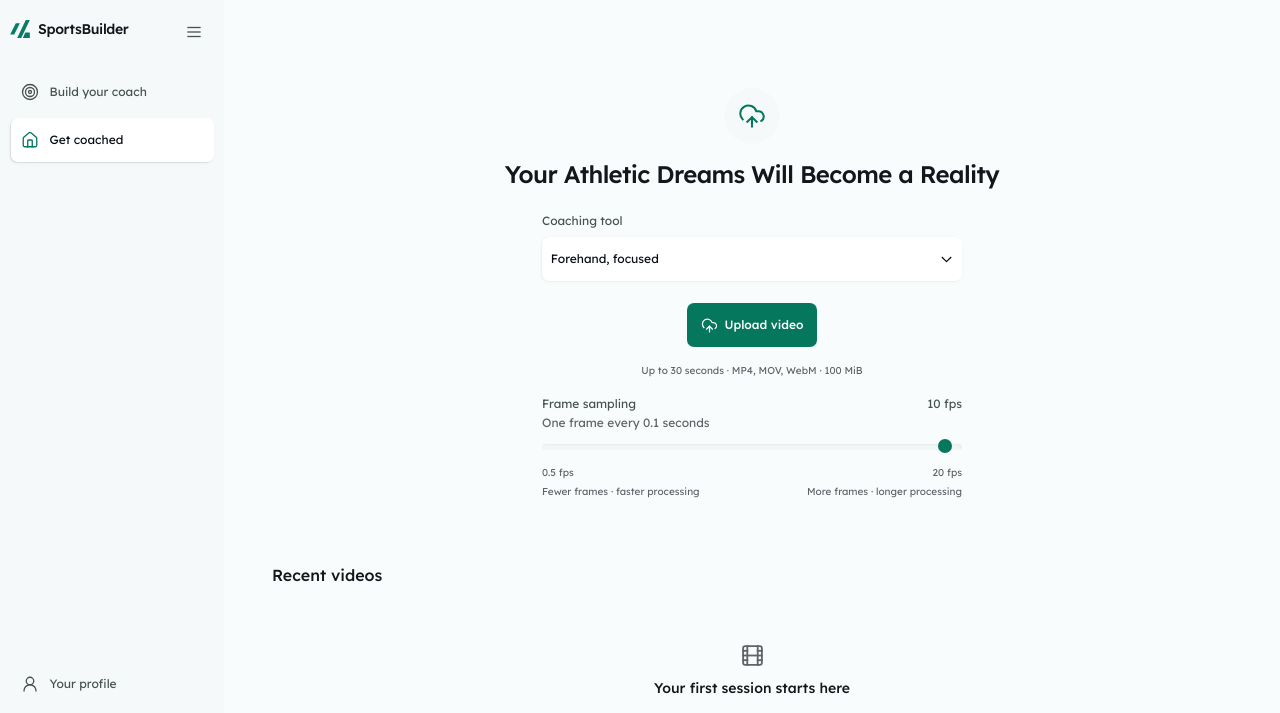
it: removes a selected coach from options and falls back to another visible coach
Click the dropdown named "Coaching tool for upload": click(605, 258) [542, 237, 962, 281]
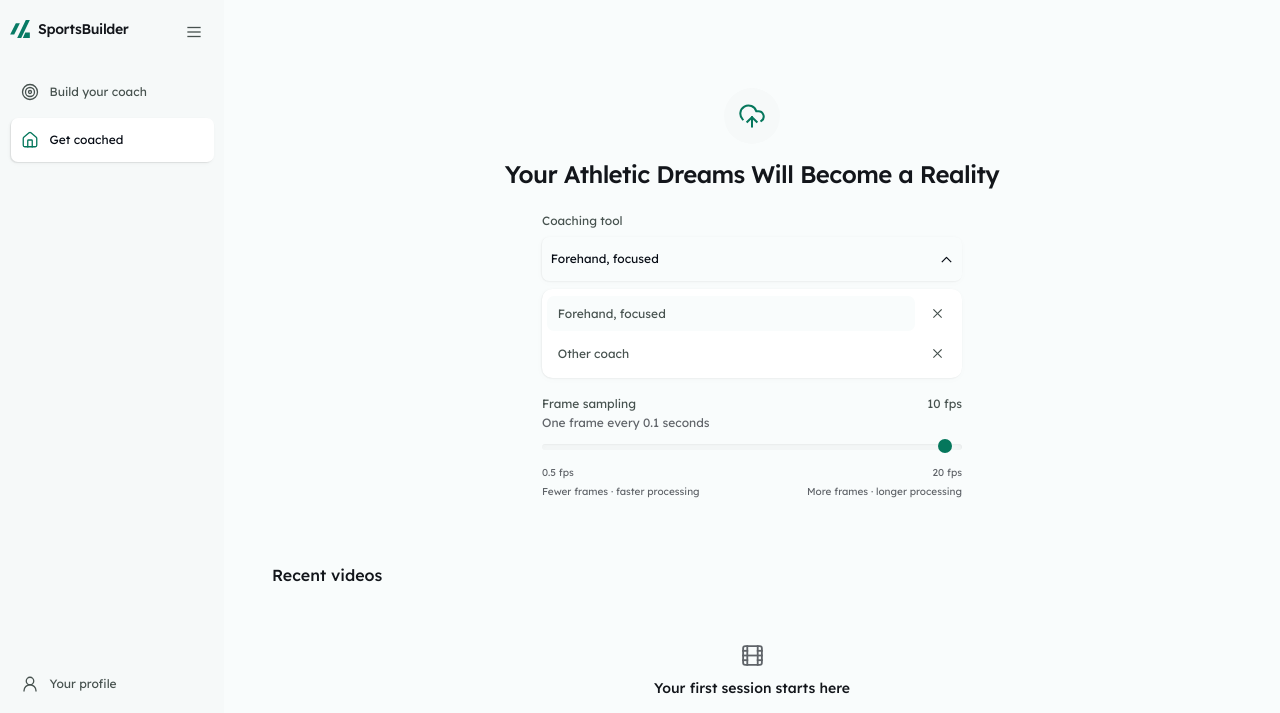
Click the button named "Remove Forehand, focused": click(938, 314) [918, 294, 957, 333]
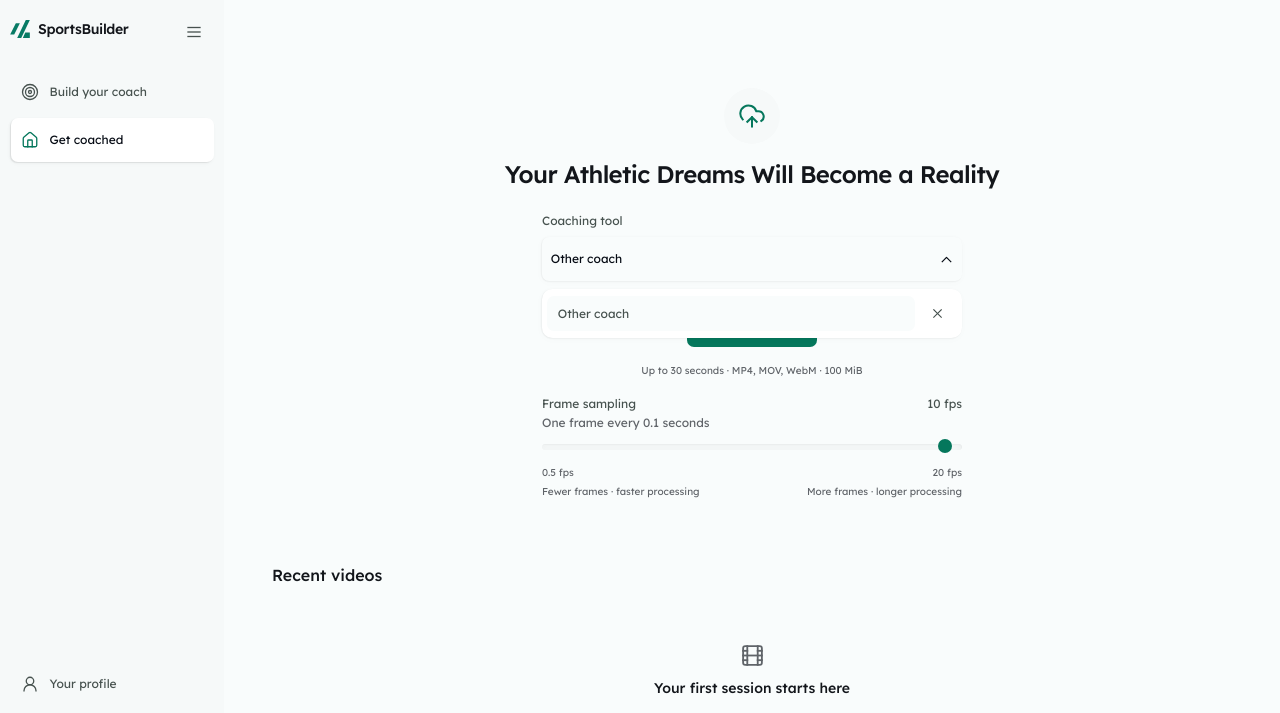
expect the dropdown named "Coaching tool for upload" reads "Other coach": met, box [542, 237, 962, 281]
